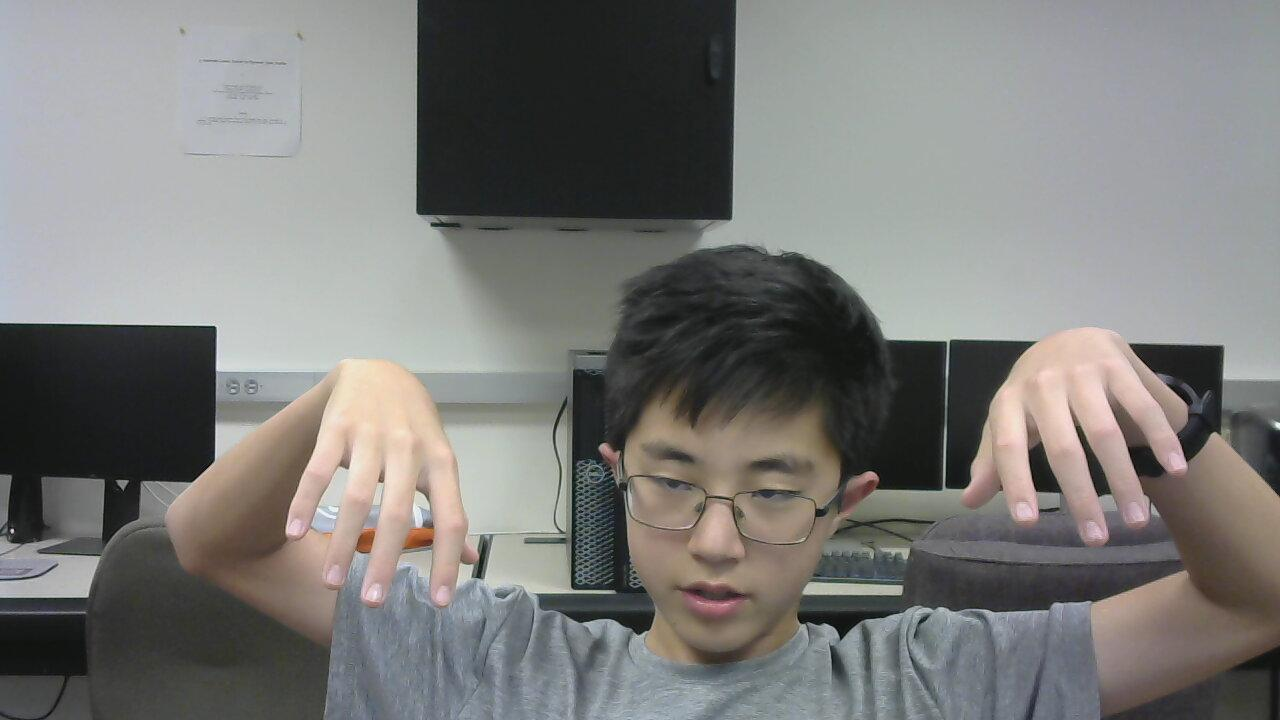hands: (279, 350, 516, 611), (947, 321, 1188, 549)
